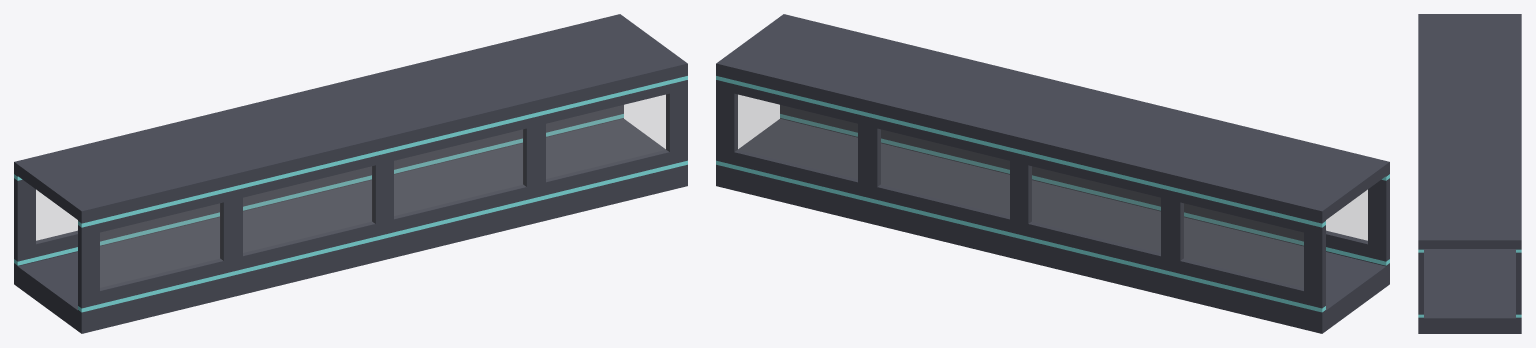
3 renders of one model, left to right at view 1: azimuth 30°, elevation 25°; view 2: azimuth 150°, elevation 25°; view 3: azimuth 270°, elevation 25°, orthographic. The views are drawn at different scales.
Parts seen in each view (by area): view 1: PK_SD_05; view 2: PK_SD_05; view 3: PK_SD_05.
Part boxes in pixels (x1,y1,x2,y2): PK_SD_05: (14, 14, 687, 333); PK_SD_05: (716, 14, 1389, 333); PK_SD_05: (1418, 14, 1521, 333).
Bounding box in the file's own units: 14.47 × 2.8 × 2.8.
